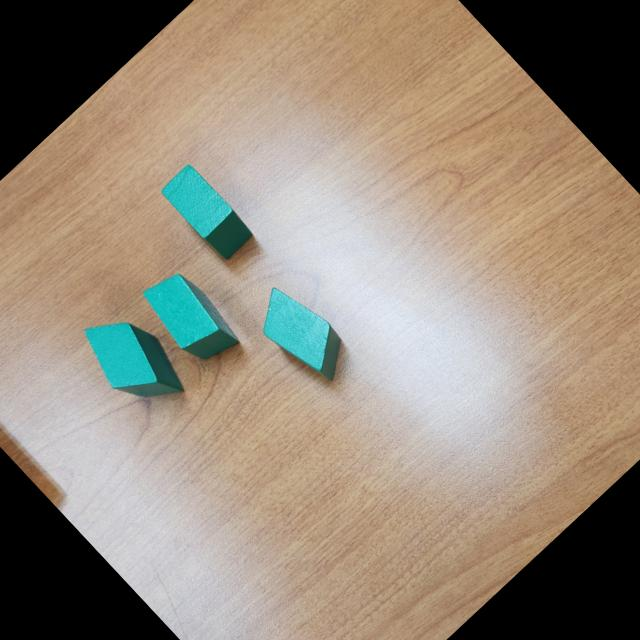green: (71, 298, 197, 426), (245, 276, 360, 392), (136, 262, 246, 374), (158, 160, 258, 264)
